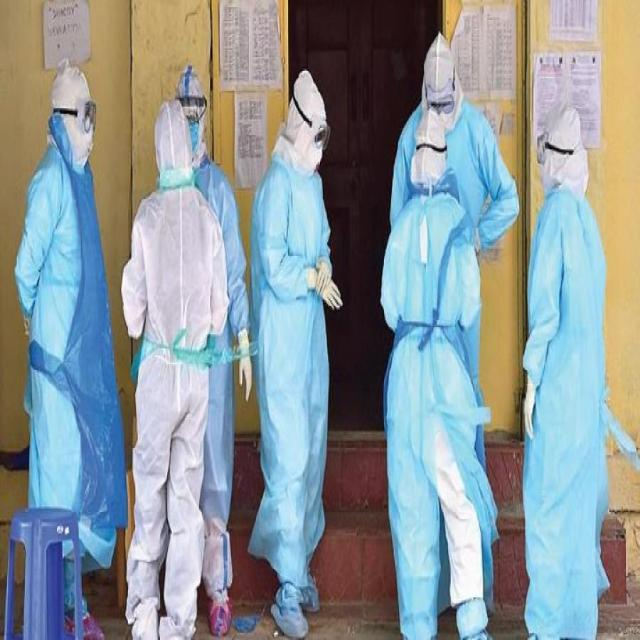Coverall: (1, 60, 140, 597), (240, 53, 332, 632), (511, 108, 605, 637), (126, 66, 207, 610), (395, 128, 477, 634), (169, 77, 243, 584), (395, 70, 497, 368)
Gloves: (284, 229, 349, 338), (238, 297, 265, 390), (512, 377, 551, 437)
Goggles: (42, 72, 117, 141), (408, 69, 471, 123), (283, 94, 335, 155), (534, 120, 568, 181)
Mask: (80, 118, 96, 164), (309, 135, 322, 178)
